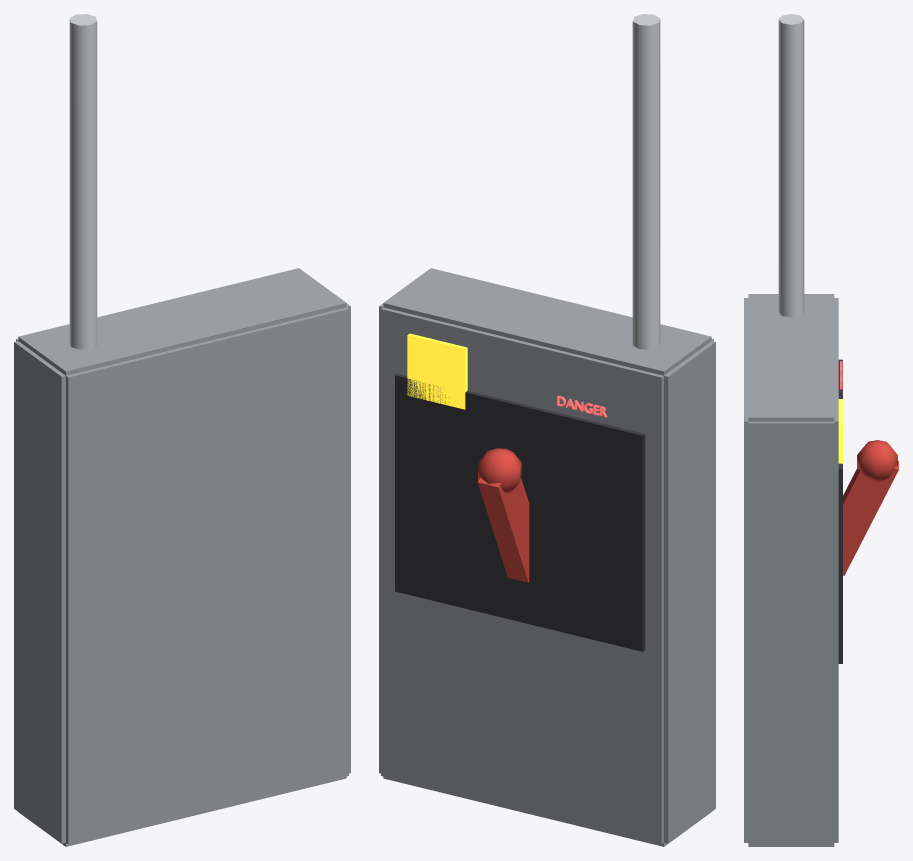
The model's file is electrical_panel.glb.
The picture shows the model from 3 angles, left to right: view 1: azimuth 30°, elevation 25°; view 2: azimuth 150°, elevation 25°; view 3: azimuth 270°, elevation 25°; orthographic projection. The views are drawn at different scales.
Parts seen in each view (by area): view 1: electrical_panel; view 2: electrical_panel; view 3: electrical_panel.
Boxes of the visible parts, x1,y1,x2,y2 form: electrical_panel: (14,14,350,846); electrical_panel: (379,14,715,846); electrical_panel: (744,14,898,846).
Size of the model in its own units: 0.7 by 1.85 by 0.3596.
